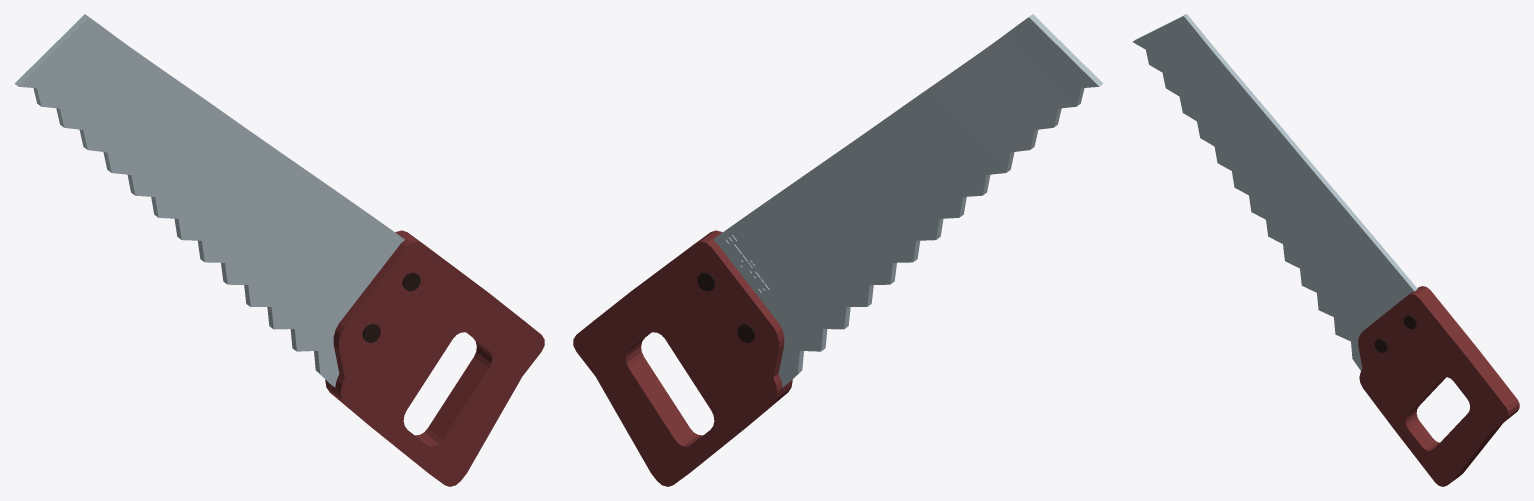
Rendered from carpentry_saw.fbx.
The picture shows the model from 3 angles, left to right: view 1: azimuth 30°, elevation 25°; view 2: azimuth 150°, elevation 25°; view 3: azimuth 330°, elevation 25°; orthographic projection. The views are drawn at different scales.
Parts seen in each view (by area): view 1: Cube.998; view 2: Cube.998; view 3: Cube.998.
Boxes of the visible parts, x1=… form: Cube.998: x1=14, y1=14, x2=544, y2=486; Cube.998: x1=573, y1=14, x2=1103, y2=486; Cube.998: x1=1133, y1=14, x2=1519, y2=486.
Size of the model in its own units: 202 by 205 by 11.98.
Materials: 1 (1 with a texture image).
